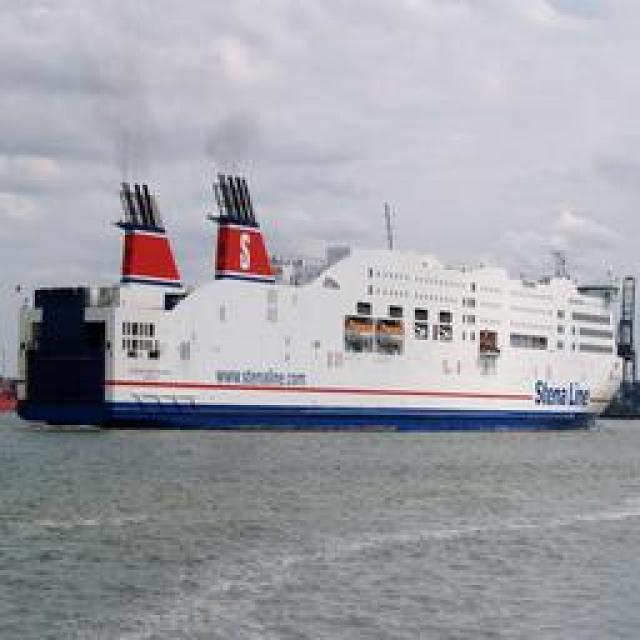CIV_Ship: (45, 160, 618, 425)
